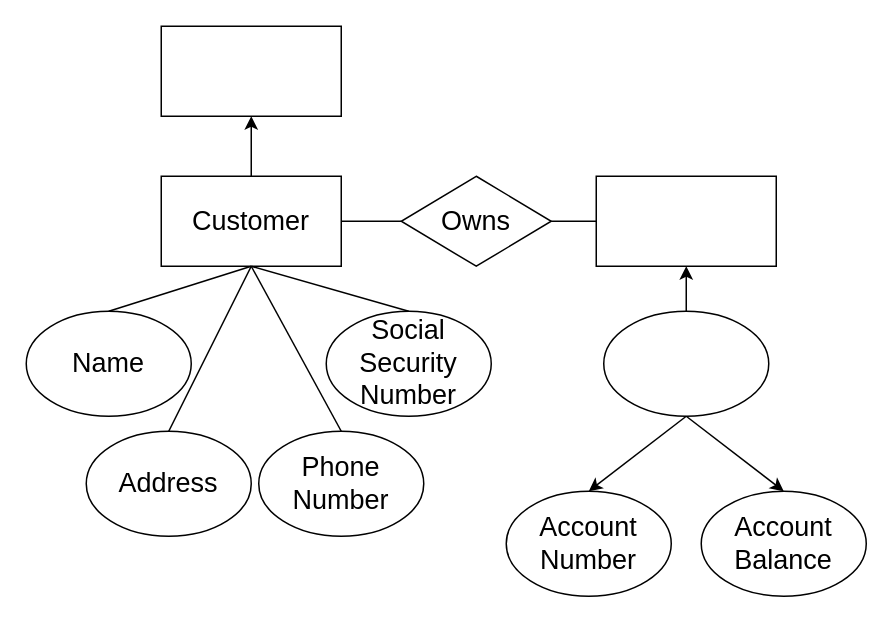
This 893x623 diagram has some shape labels left out. Here are the shapes that lost their labels. From the top down, the centre of each, then its label:
At [250,70]: "Bank".
At [685,220]: "Account".
At [685,363]: "Type".
